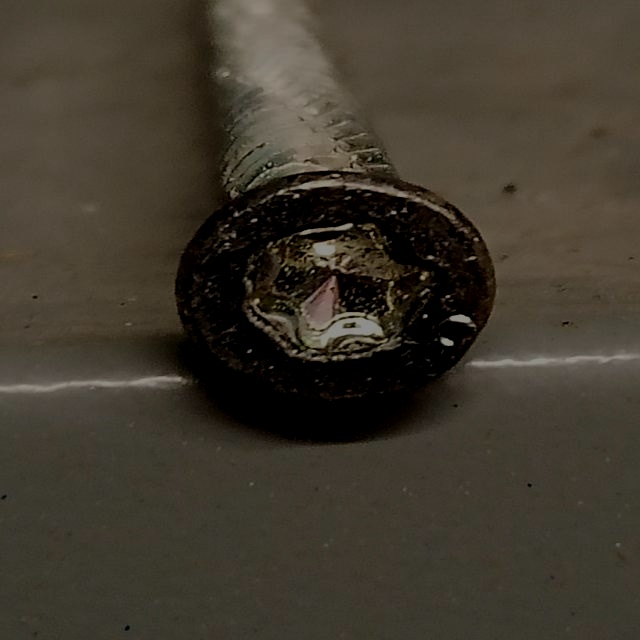torx: (172, 174, 499, 411)
